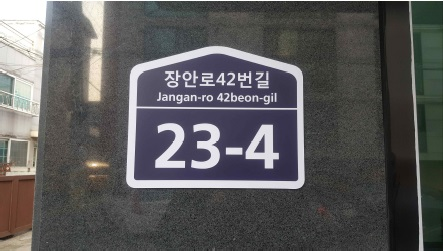building_license_plate1: (126, 45, 305, 190)
